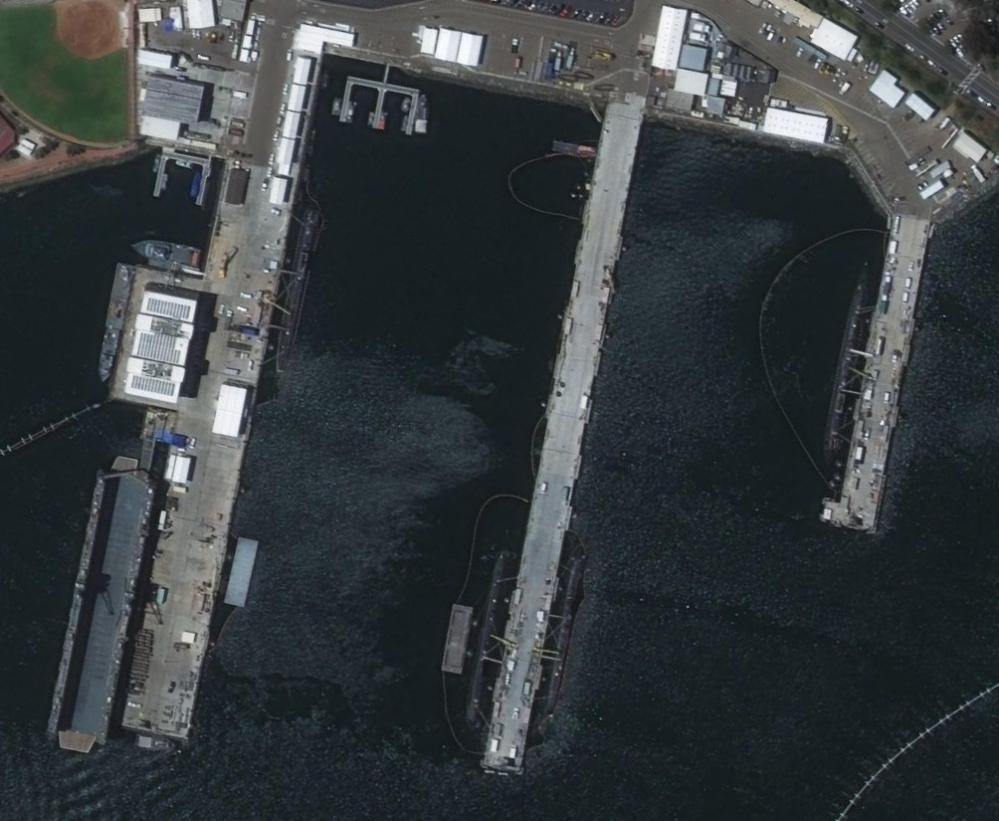submarine: (443, 547, 518, 738), (821, 250, 875, 486), (534, 538, 592, 752)
